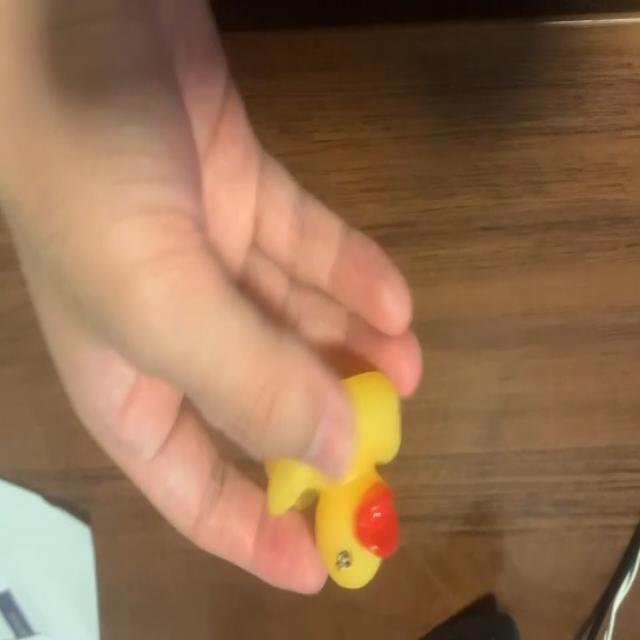rubber-duck: (265, 371, 399, 587)
